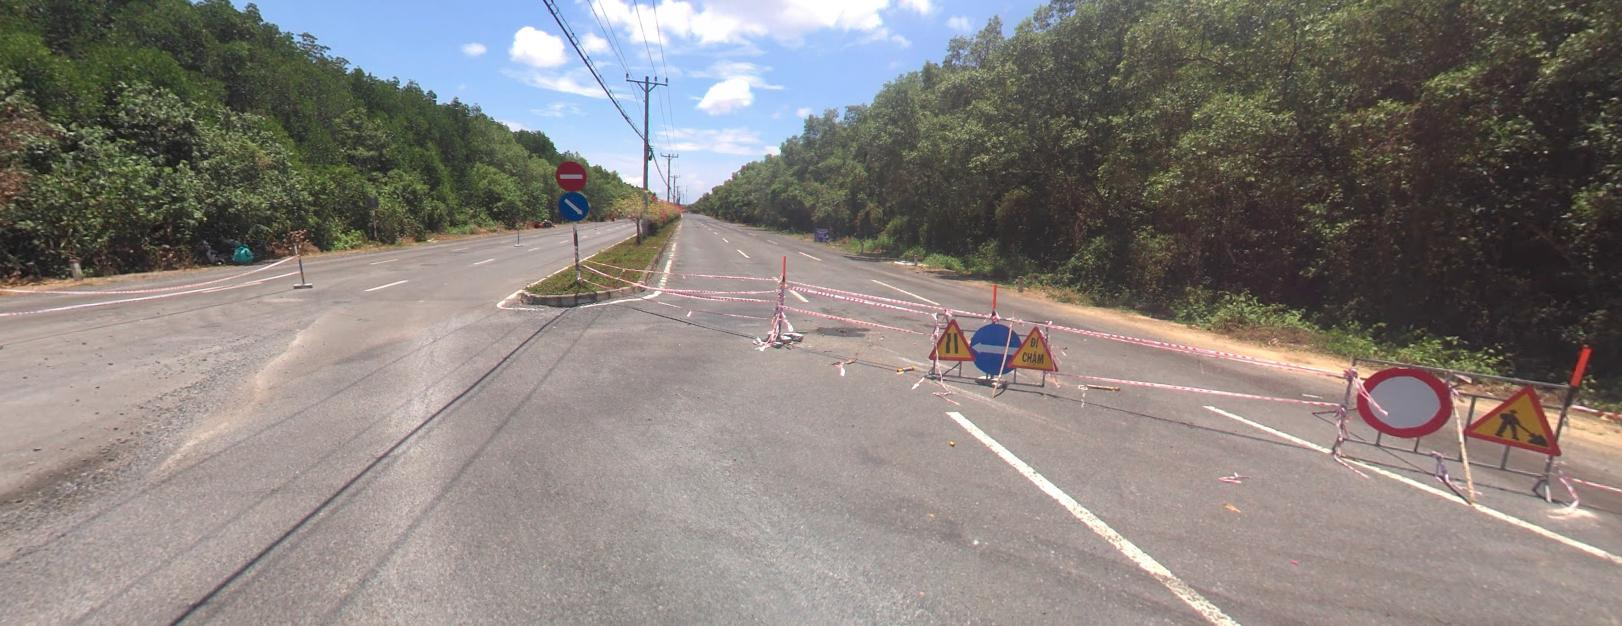Cam con lai: (1357, 365, 1451, 437)
Cam nguoc chieu: (555, 160, 585, 188)
Hieu lenh: (969, 321, 1022, 371), (558, 191, 588, 220)
Nguy hiem: (1462, 382, 1560, 455), (1006, 324, 1057, 370), (927, 316, 975, 359)
